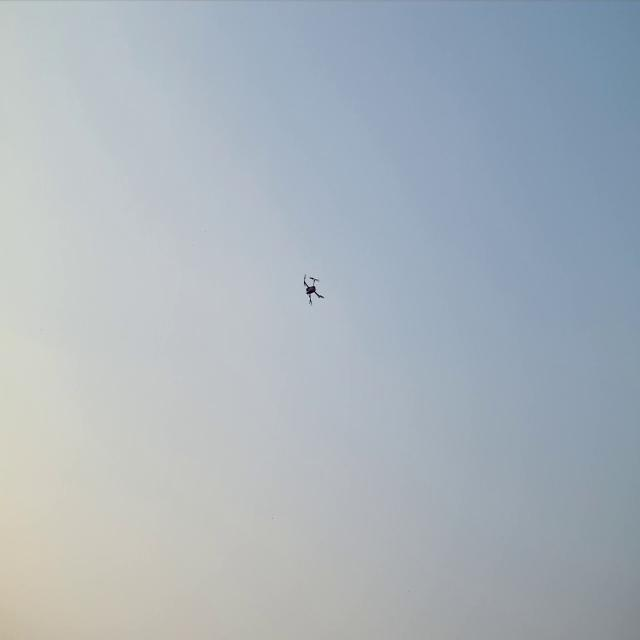UAV: (300, 273, 328, 308)
